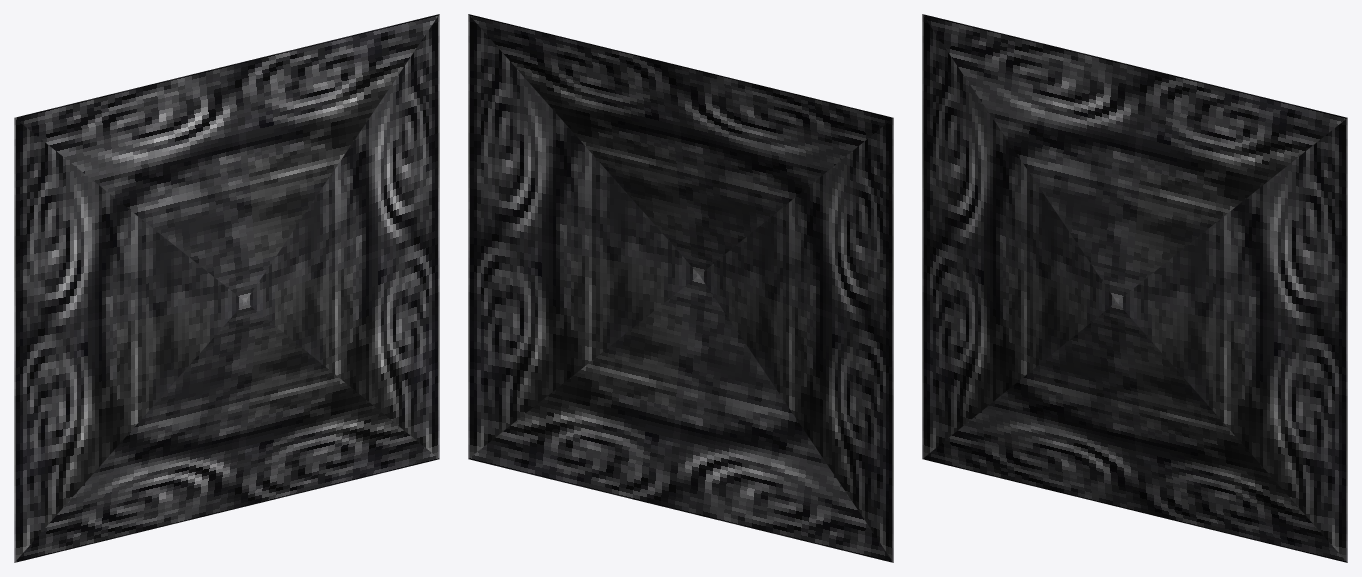
The picture shows the model from 3 angles, left to right: view 1: azimuth 30°, elevation 25°; view 2: azimuth 150°, elevation 25°; view 3: azimuth 330°, elevation 25°; orthographic projection.
Visible parts, largest first — view 1: model_Object26; view 2: model_Object26; view 3: model_Object26.
Part boxes in pixels (x1=…): model_Object26: x1=14, y1=14, x2=439, y2=562; model_Object26: x1=468, y1=14, x2=893, y2=562; model_Object26: x1=922, y1=14, x2=1347, y2=562.
Bounding box in the file's own units: 1.25 × 1.25 × 0.0933.
1 material, 1 textured.
